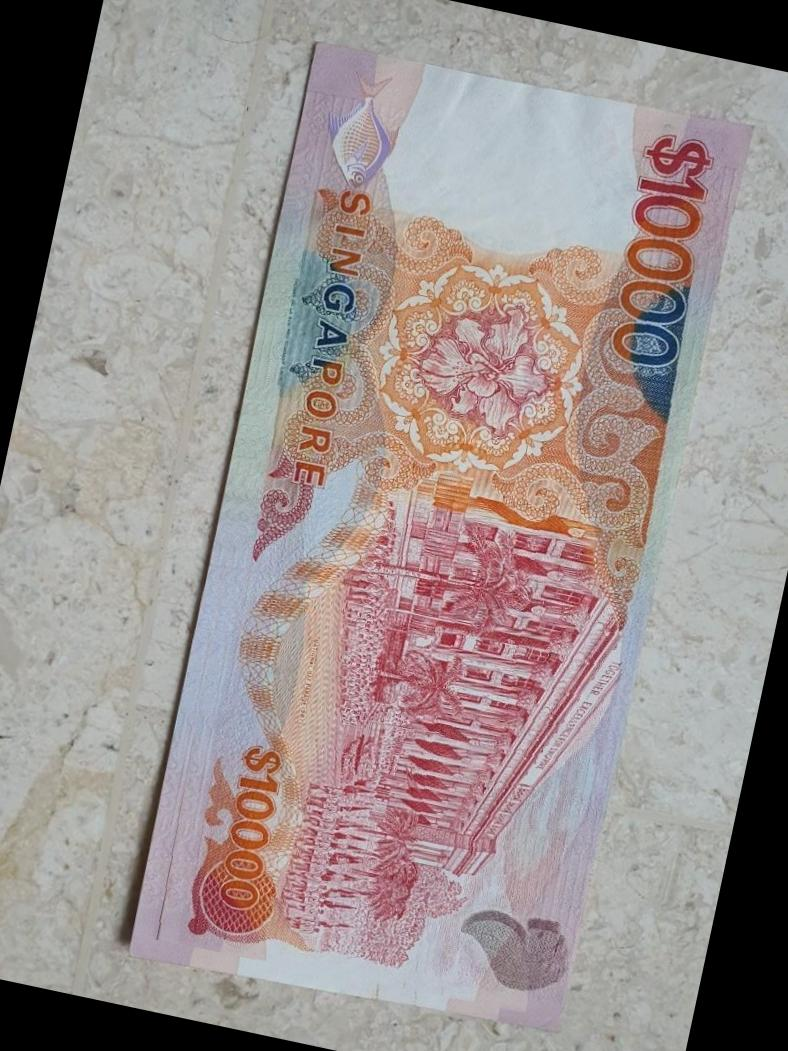10000SingaporeDollar: (130, 41, 747, 1026)
